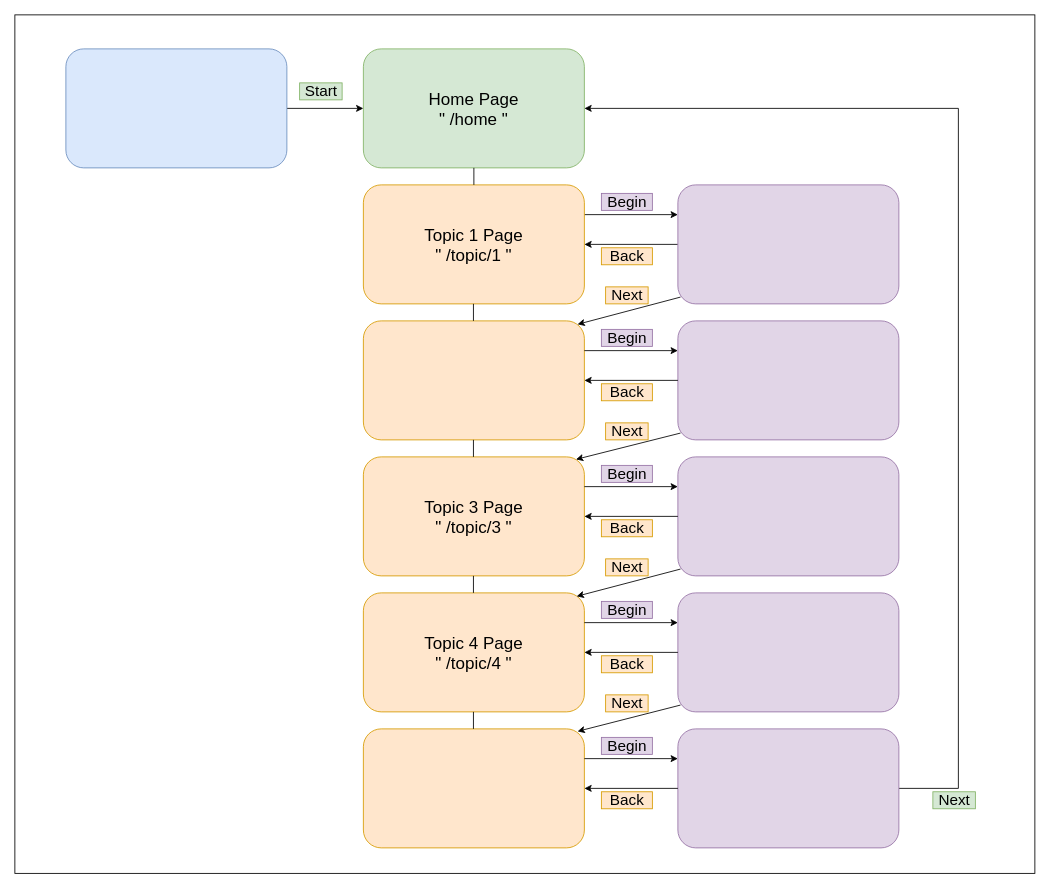
The diagram is 1050 pixels wide and 888 high, and some of its shapes have lost their labels. Here are the shapes that lost their labels. From the top down, the box of each, then its label:
(65, 48, 287, 168): Welcome Page " / "
(677, 184, 899, 304): Accordion 1 Page " /accordion/1 "
(363, 320, 584, 440): Topic 2 Page " /topic/2 "
(677, 320, 899, 440): Accordion 2 Page " /accordion/2 "
(677, 456, 899, 576): Accordion 3 Page " /accordion/3 "
(677, 592, 899, 712): Accordion 4 Page " /accordion/4 "
(363, 728, 584, 848): Topic 5 Page " /topic/5 "
(677, 728, 899, 848): Accordion 5 Page " /accordion/5 "
